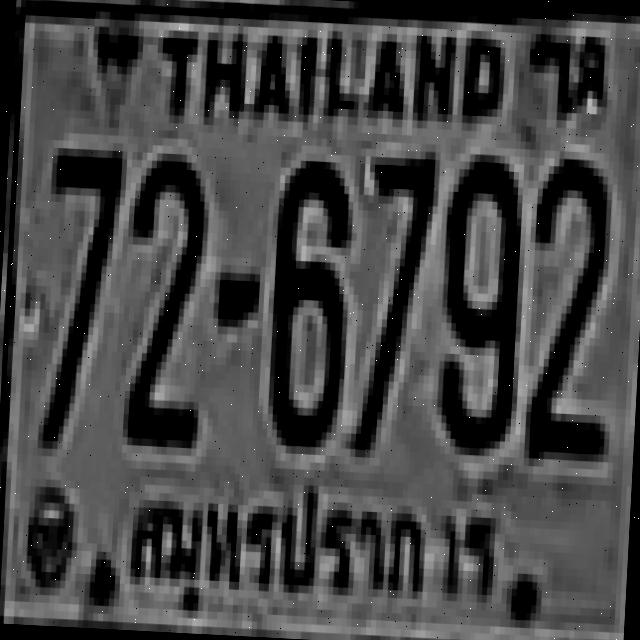2: (519, 154, 614, 458), (120, 148, 210, 444), (520, 150, 610, 431)
6: (262, 152, 351, 440)
7: (348, 148, 433, 452), (36, 140, 120, 444), (40, 140, 124, 413), (44, 140, 124, 344)
9: (433, 145, 523, 449)
SamutPrakan: (119, 469, 508, 615)
